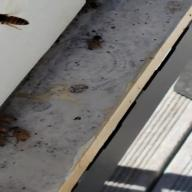Bee: (0, 7, 31, 33)
